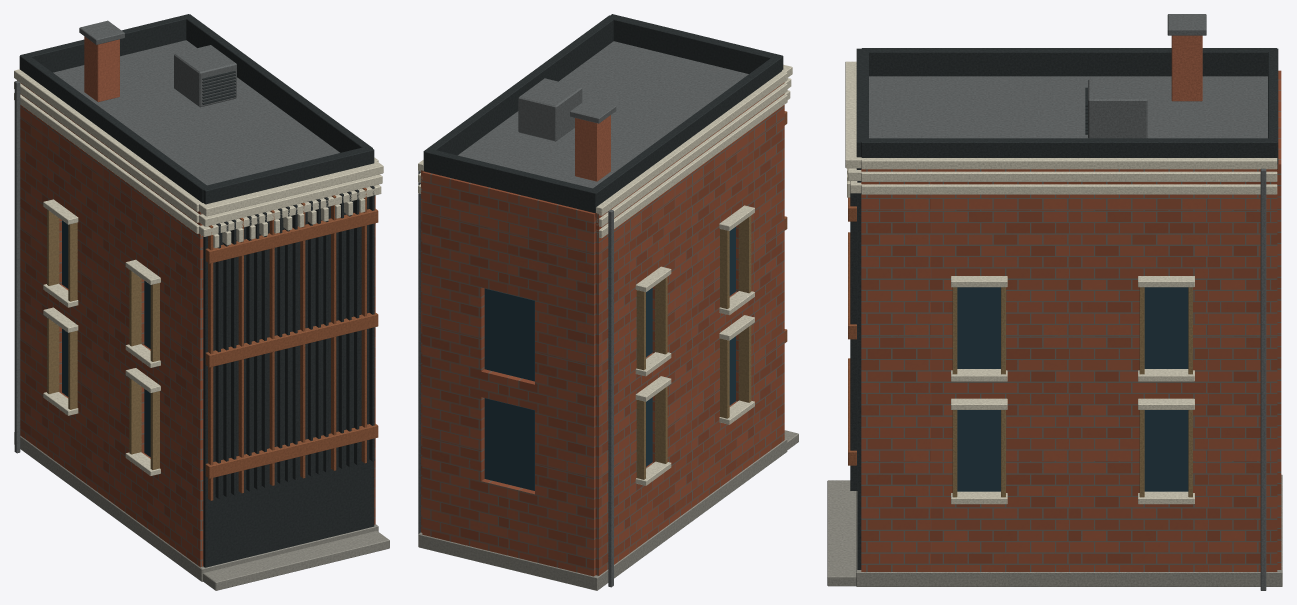
Rendered from WHSE11_lod1.glb.
The picture shows the model from 3 angles, left to right: view 1: azimuth 30°, elevation 25°; view 2: azimuth 150°, elevation 25°; view 3: azimuth 270°, elevation 25°; orthographic projection. The views are drawn at different scales.
Visible parts, largest first — view 1: WHSE11_LOD1; view 2: WHSE11_LOD1; view 3: WHSE11_LOD1.
Boxes of the visible parts, left/top/right/bottom form: WHSE11_LOD1: left=14, top=14, right=389, bottom=590; WHSE11_LOD1: left=418, top=14, right=798, bottom=590; WHSE11_LOD1: left=827, top=14, right=1282, bottom=590.
Size of the model in its own units: 3.71 by 7.85 by 6.57.
9 materials, 8 textured.
